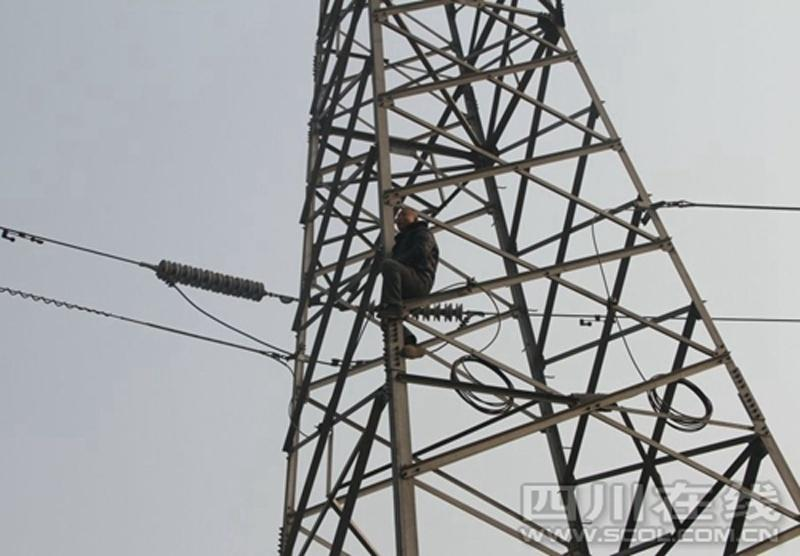power_tower: (208, 0, 795, 542)
